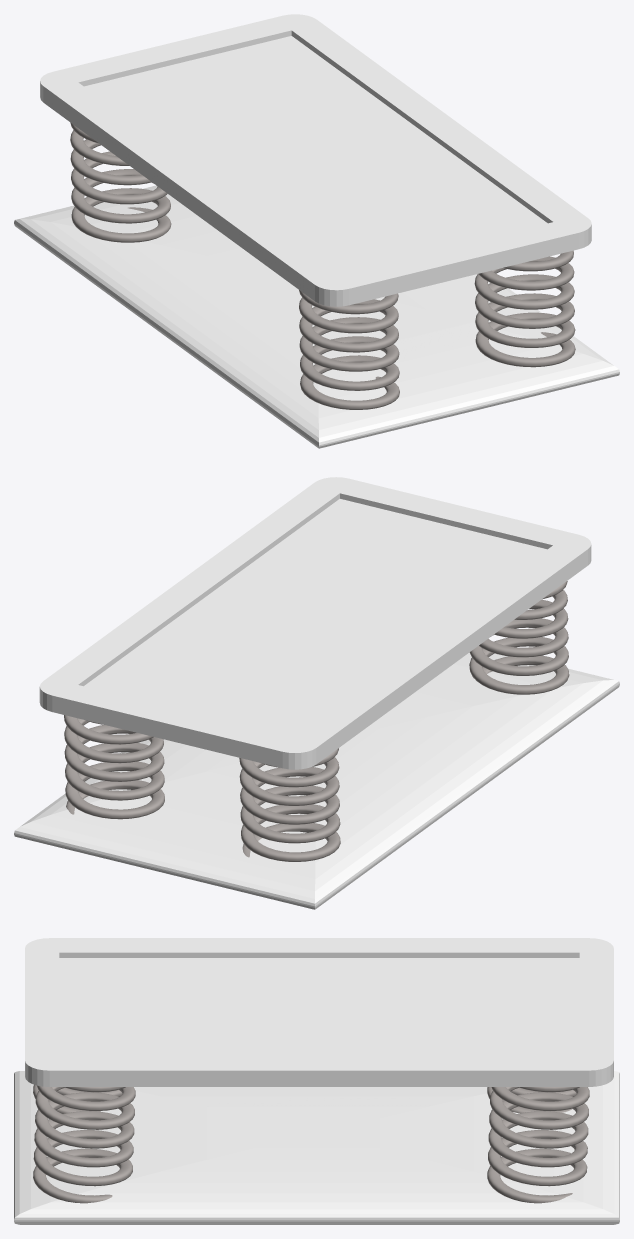
File: jump_board.gltf
3 renders of one model, top to bottom at view 1: azimuth 30°, elevation 25°; view 2: azimuth 150°, elevation 25°; view 3: azimuth 270°, elevation 25°, orthographic.
Visible parts, largest first — view 1: Cube; view 2: Cube; view 3: Cube.
Boxes of the visible parts, <box> form: Cube: <box>14,14,619,448</box>; Cube: <box>14,477,619,909</box>; Cube: <box>14,938,619,1224</box>.
Bounding box in the file's own units: 3.22 × 1.63 × 5.66.
